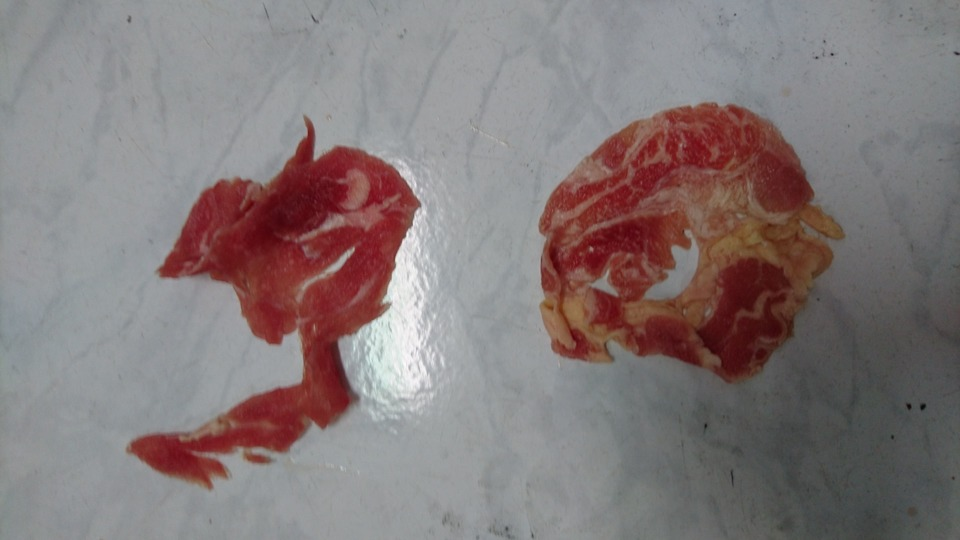restructured meat: (145, 141, 425, 474), (528, 87, 828, 383)
